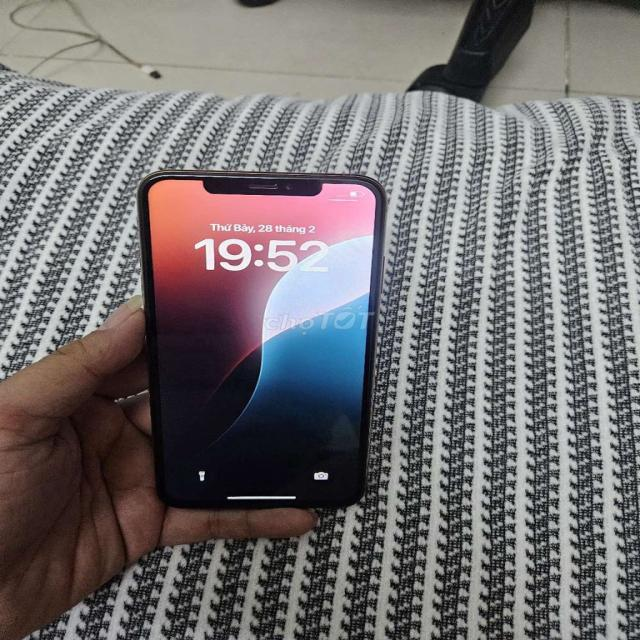gen_x_xs: (124, 161, 405, 526)
